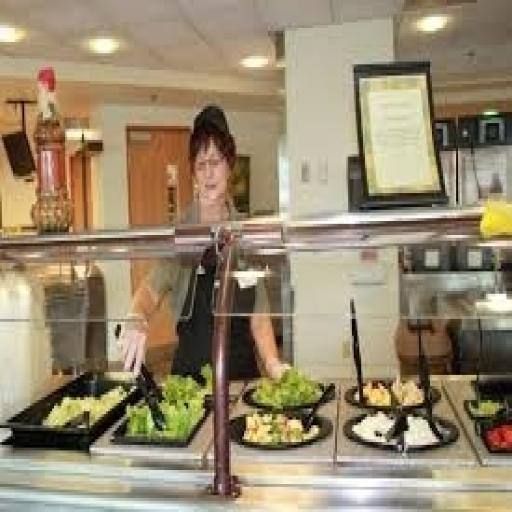eating: (118, 101, 292, 383)
